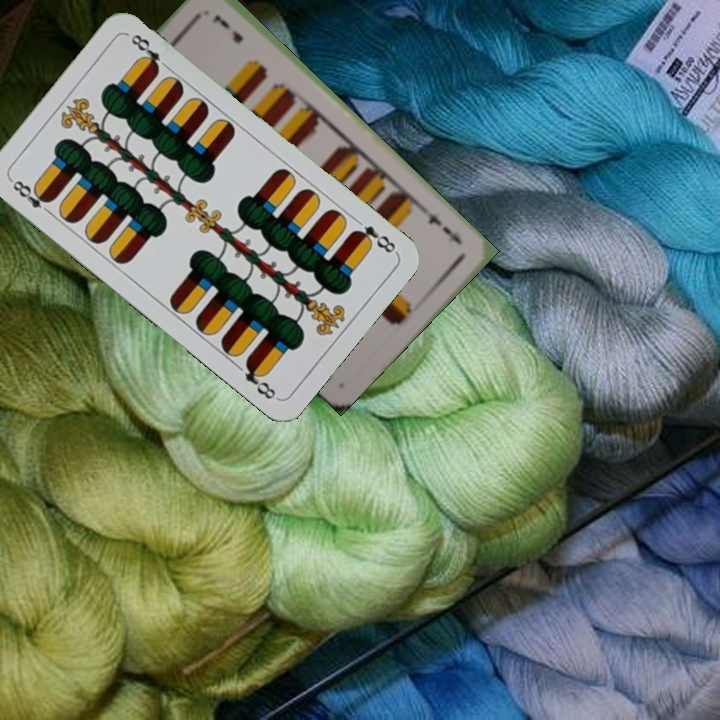E7: (422, 205, 466, 247)
E8: (6, 175, 55, 218), (348, 221, 399, 256)
